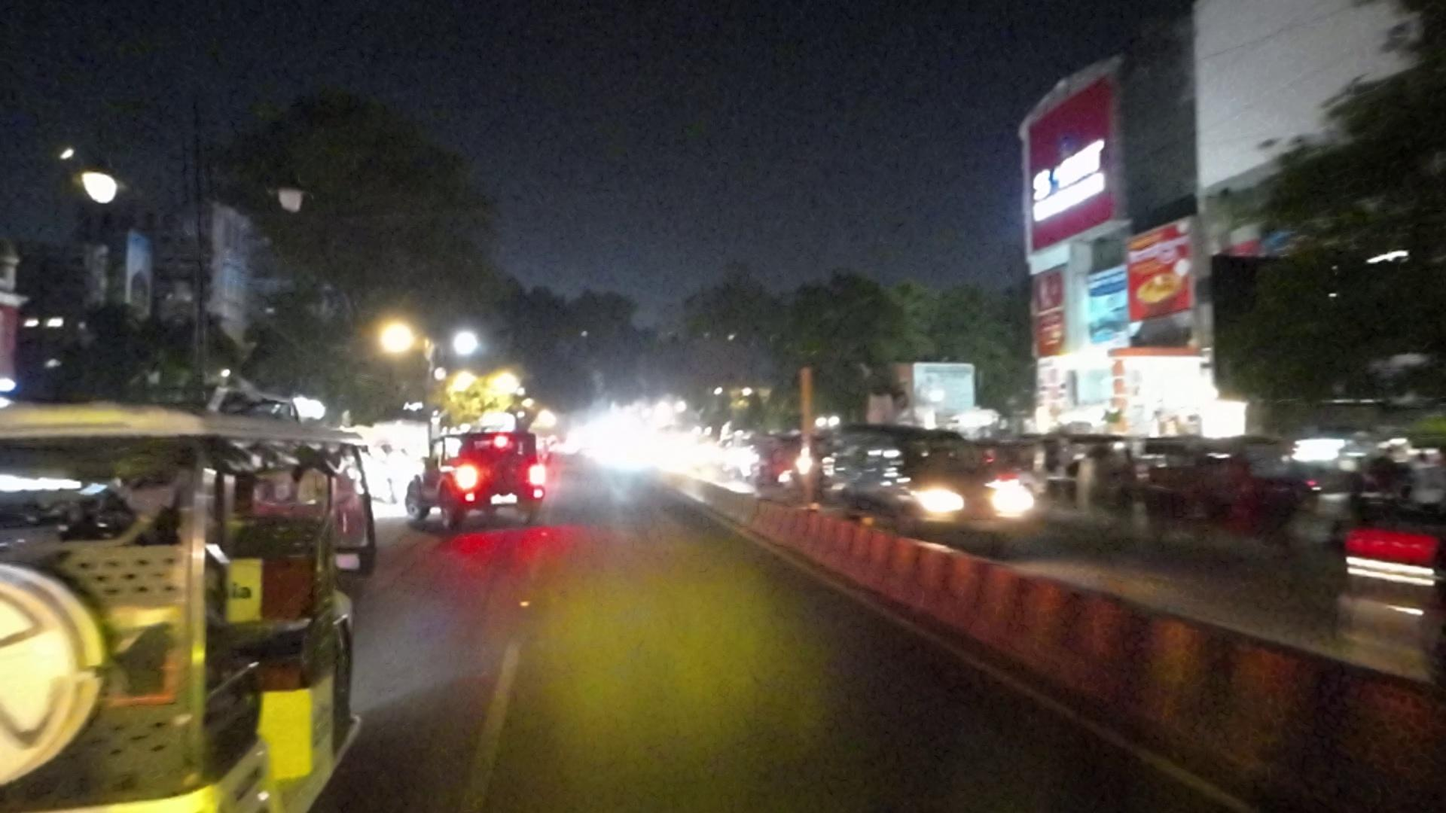streetlight: (265, 155, 315, 227)
